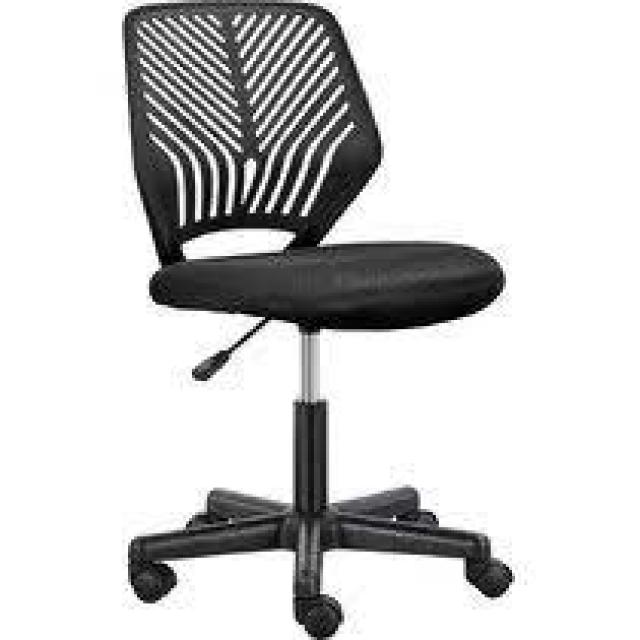chair: (11, 0, 544, 640)
